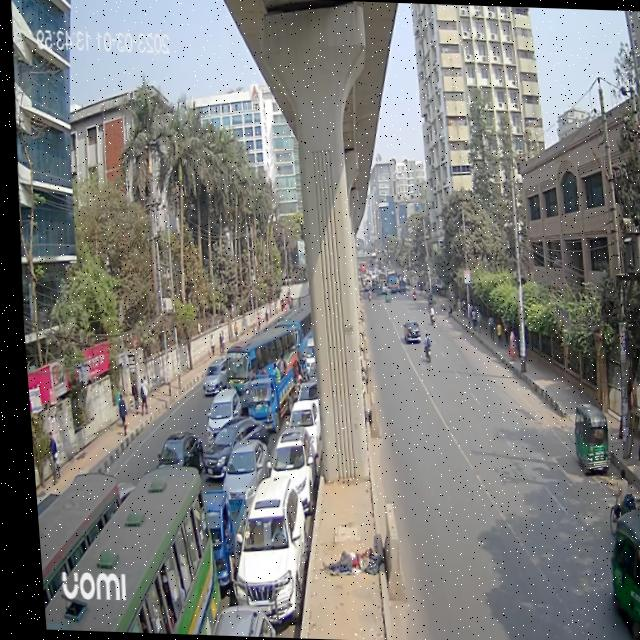cng: (591, 490, 640, 640), (561, 394, 607, 484)
